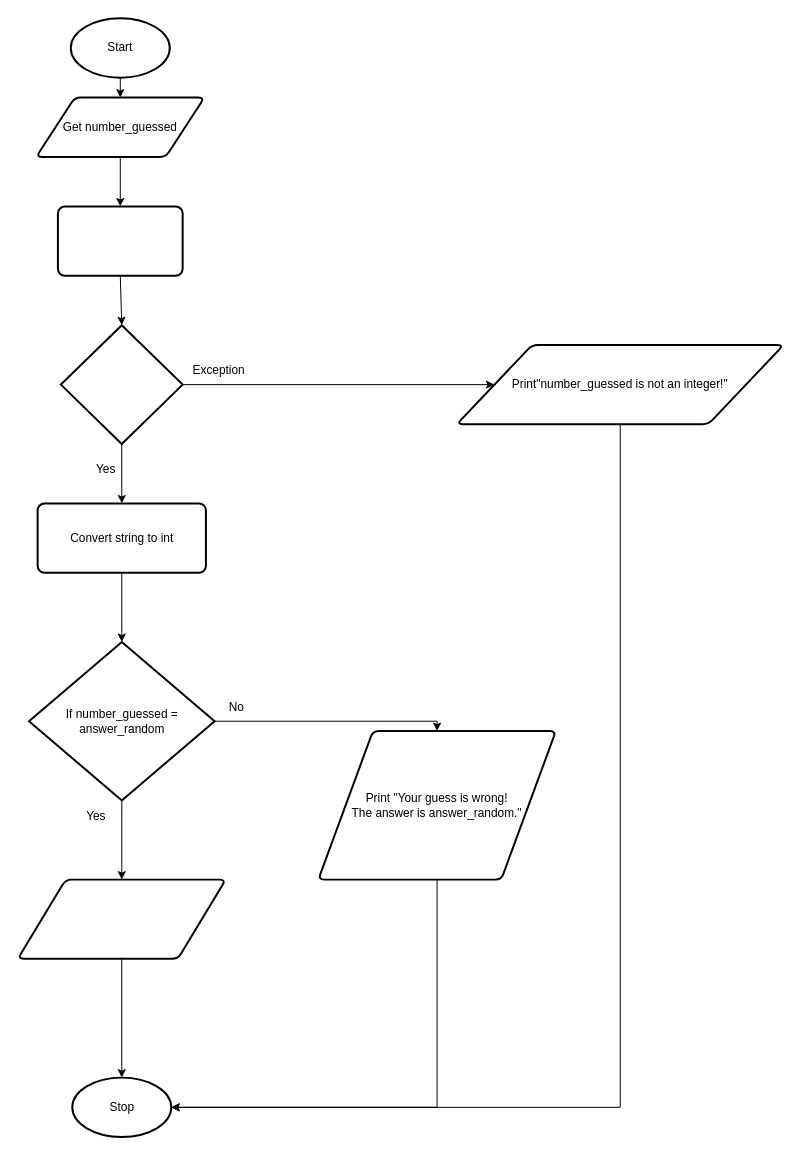
Some shapes in this 802 by 1154 pixel diagram are drawn without their labels. The shapes that lost their labels are listed below. From the top down, each one's centre as x and y in pixels, then its label:
pixel 119 240: Get answer_random
pixel 121 384: try
pixel 121 918: Print "Your guess is right!"
